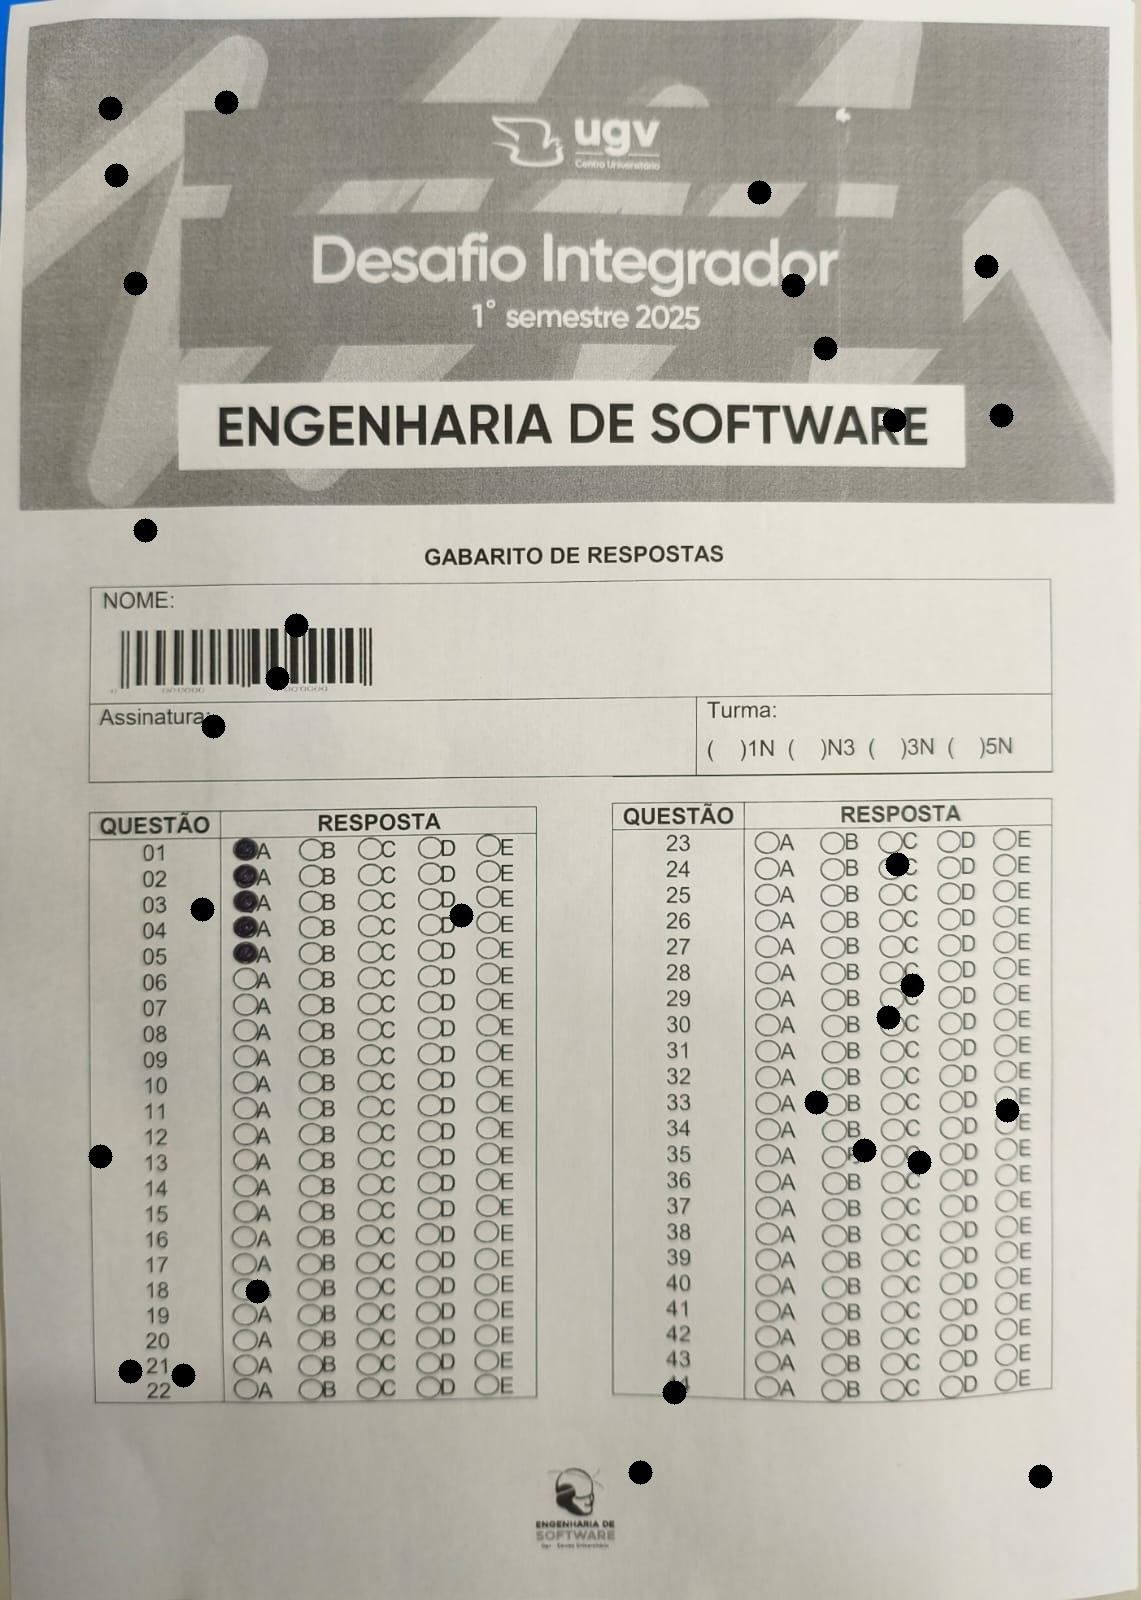bolinha: (813, 331, 837, 365), (804, 1085, 829, 1119), (170, 1358, 195, 1391), (244, 1274, 269, 1307), (780, 268, 805, 301), (98, 91, 122, 125), (104, 158, 128, 191), (662, 1375, 687, 1409), (876, 1000, 900, 1033), (882, 404, 906, 437), (214, 85, 238, 119), (88, 1140, 112, 1173), (1027, 1459, 1052, 1493), (201, 709, 225, 743), (995, 1093, 1019, 1127), (133, 514, 157, 547), (852, 1133, 876, 1167), (123, 267, 147, 300), (974, 249, 998, 283), (885, 847, 909, 880), (747, 175, 771, 209), (449, 899, 473, 932), (265, 662, 289, 695), (900, 968, 924, 1001), (284, 609, 307, 642), (119, 1354, 142, 1388), (629, 1456, 652, 1489), (989, 399, 1013, 432), (908, 1146, 931, 1179), (190, 893, 214, 926)
